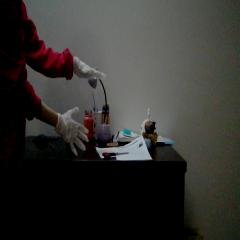gloved: (58, 107, 90, 156), (74, 56, 107, 80)
